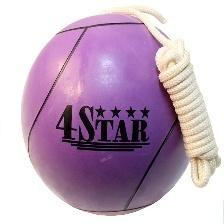Sports-Ball: (15, 14, 201, 219)
